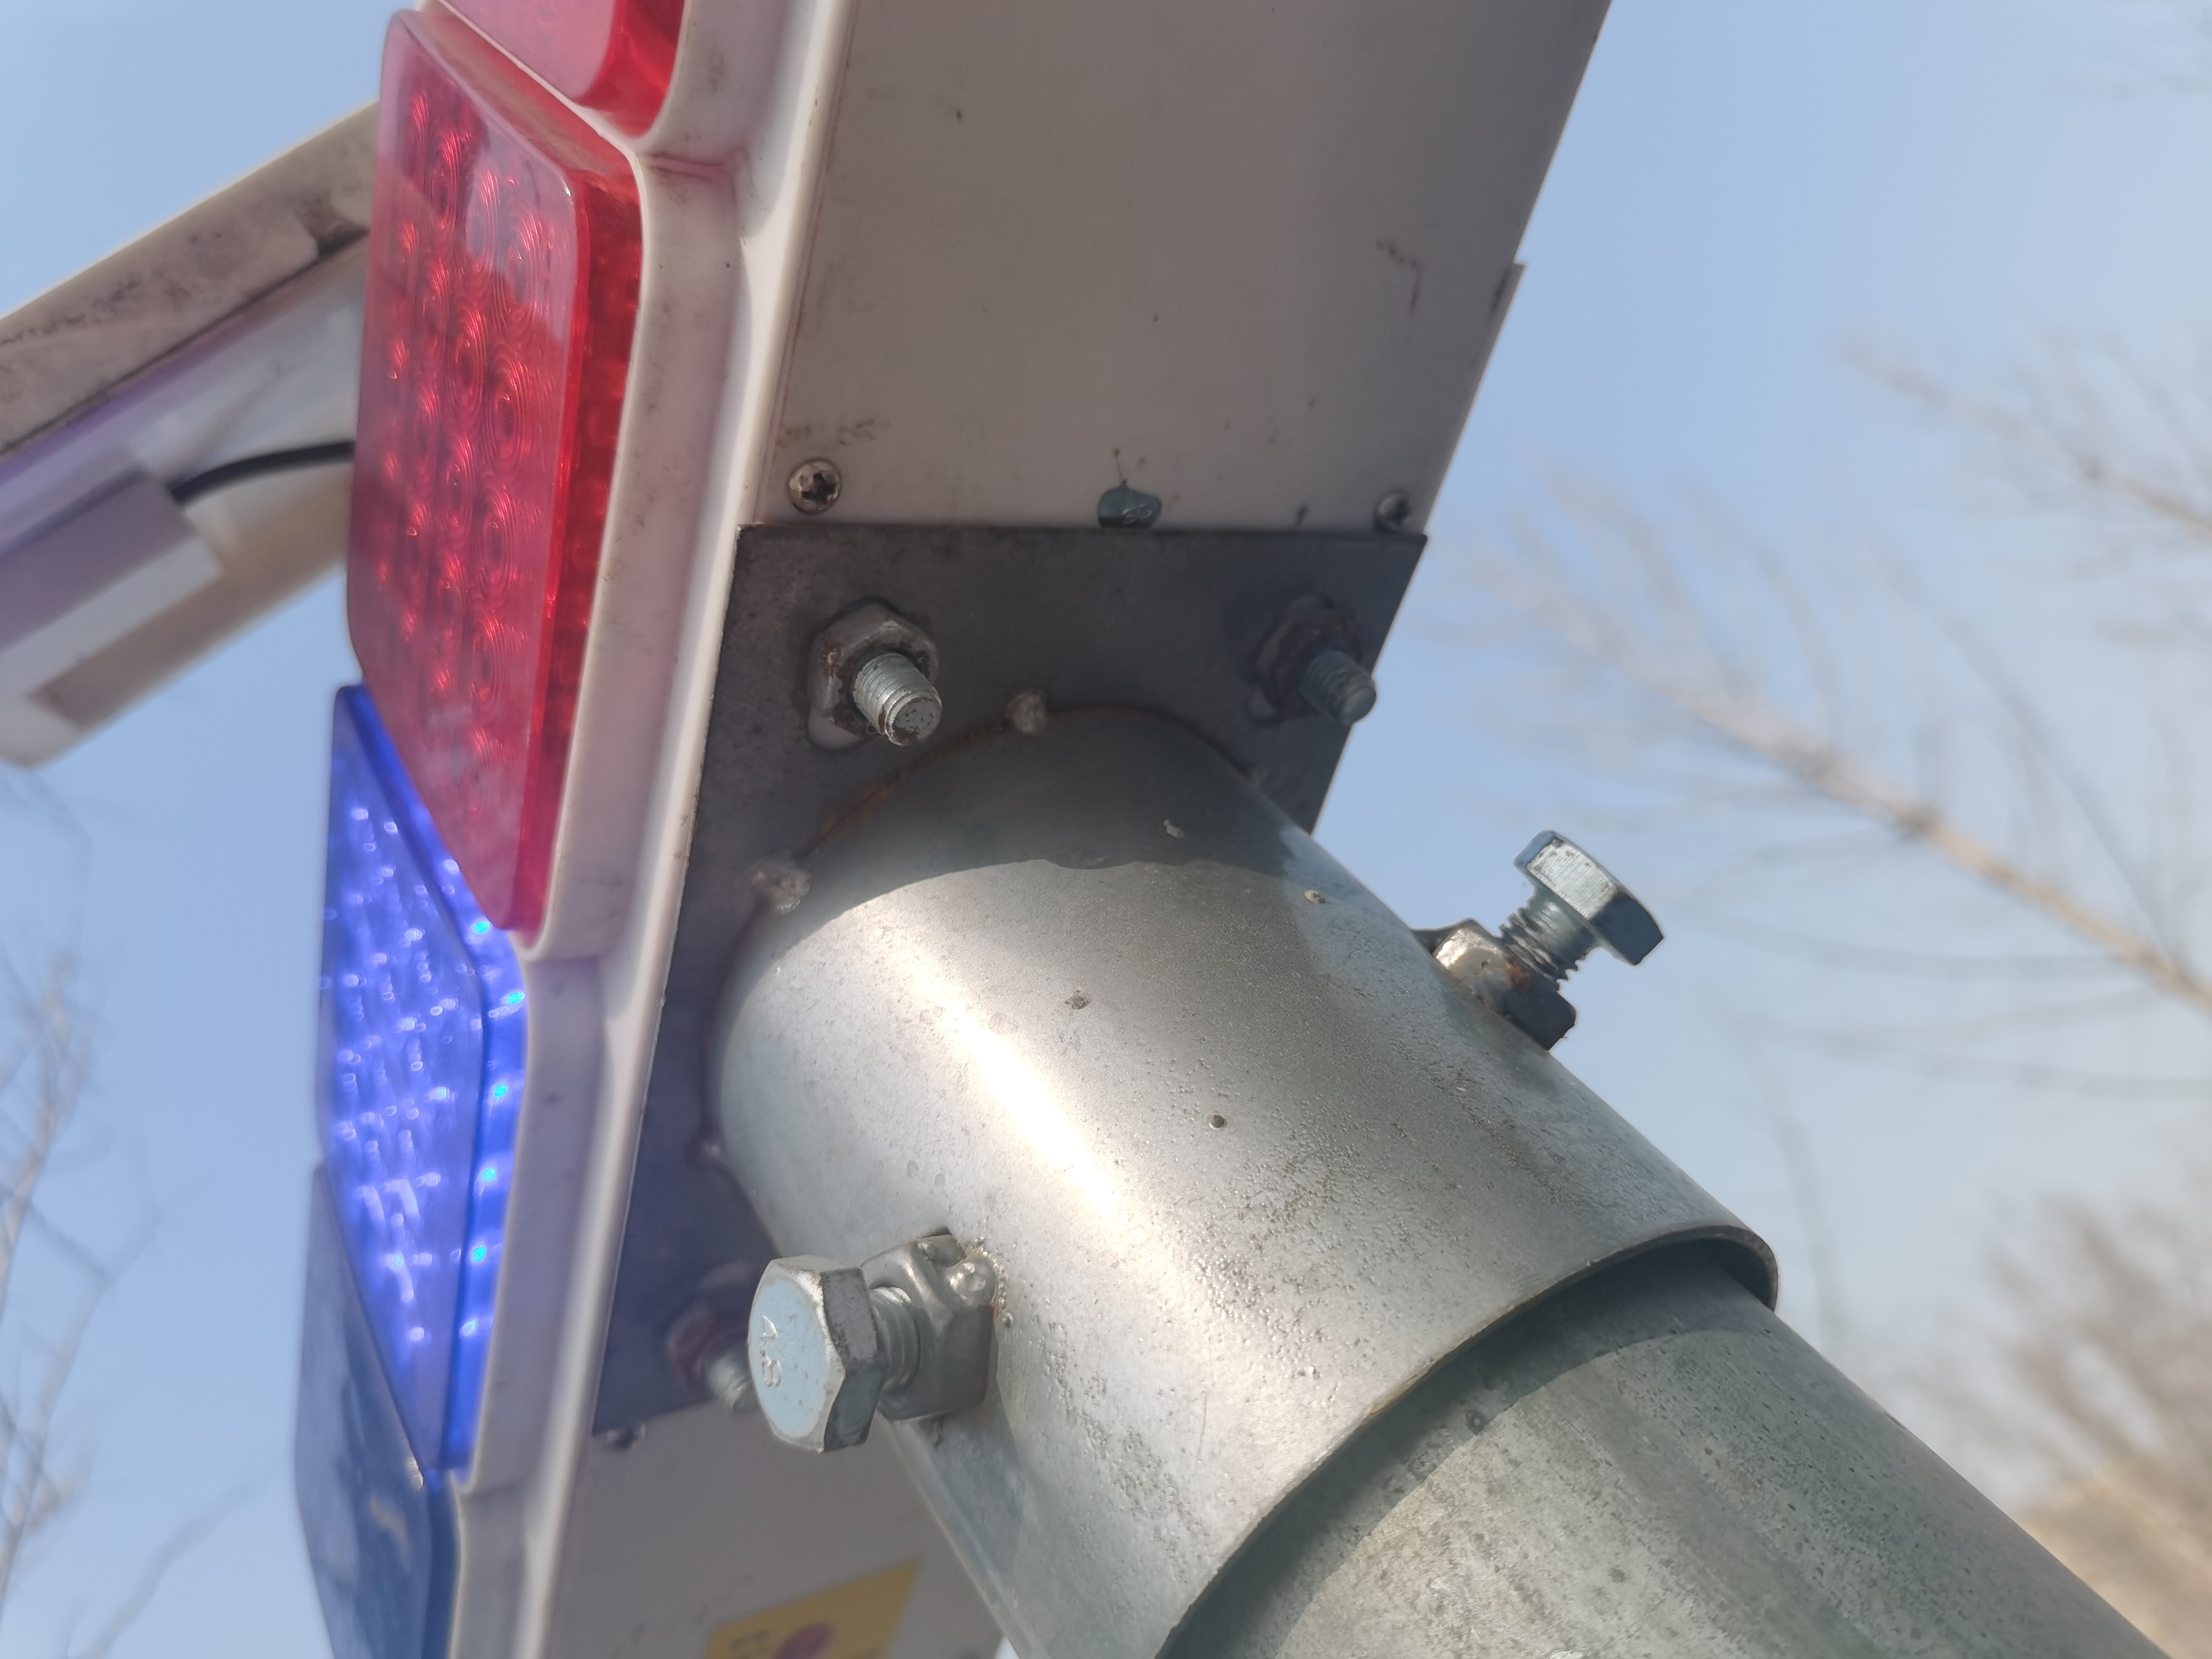bolt_a: (745, 1244, 892, 1460)
bolt_b: (805, 598, 944, 749), (1254, 603, 1374, 725)
bolt_c: (1512, 826, 1663, 971)
vague: (660, 1290, 773, 1417)
